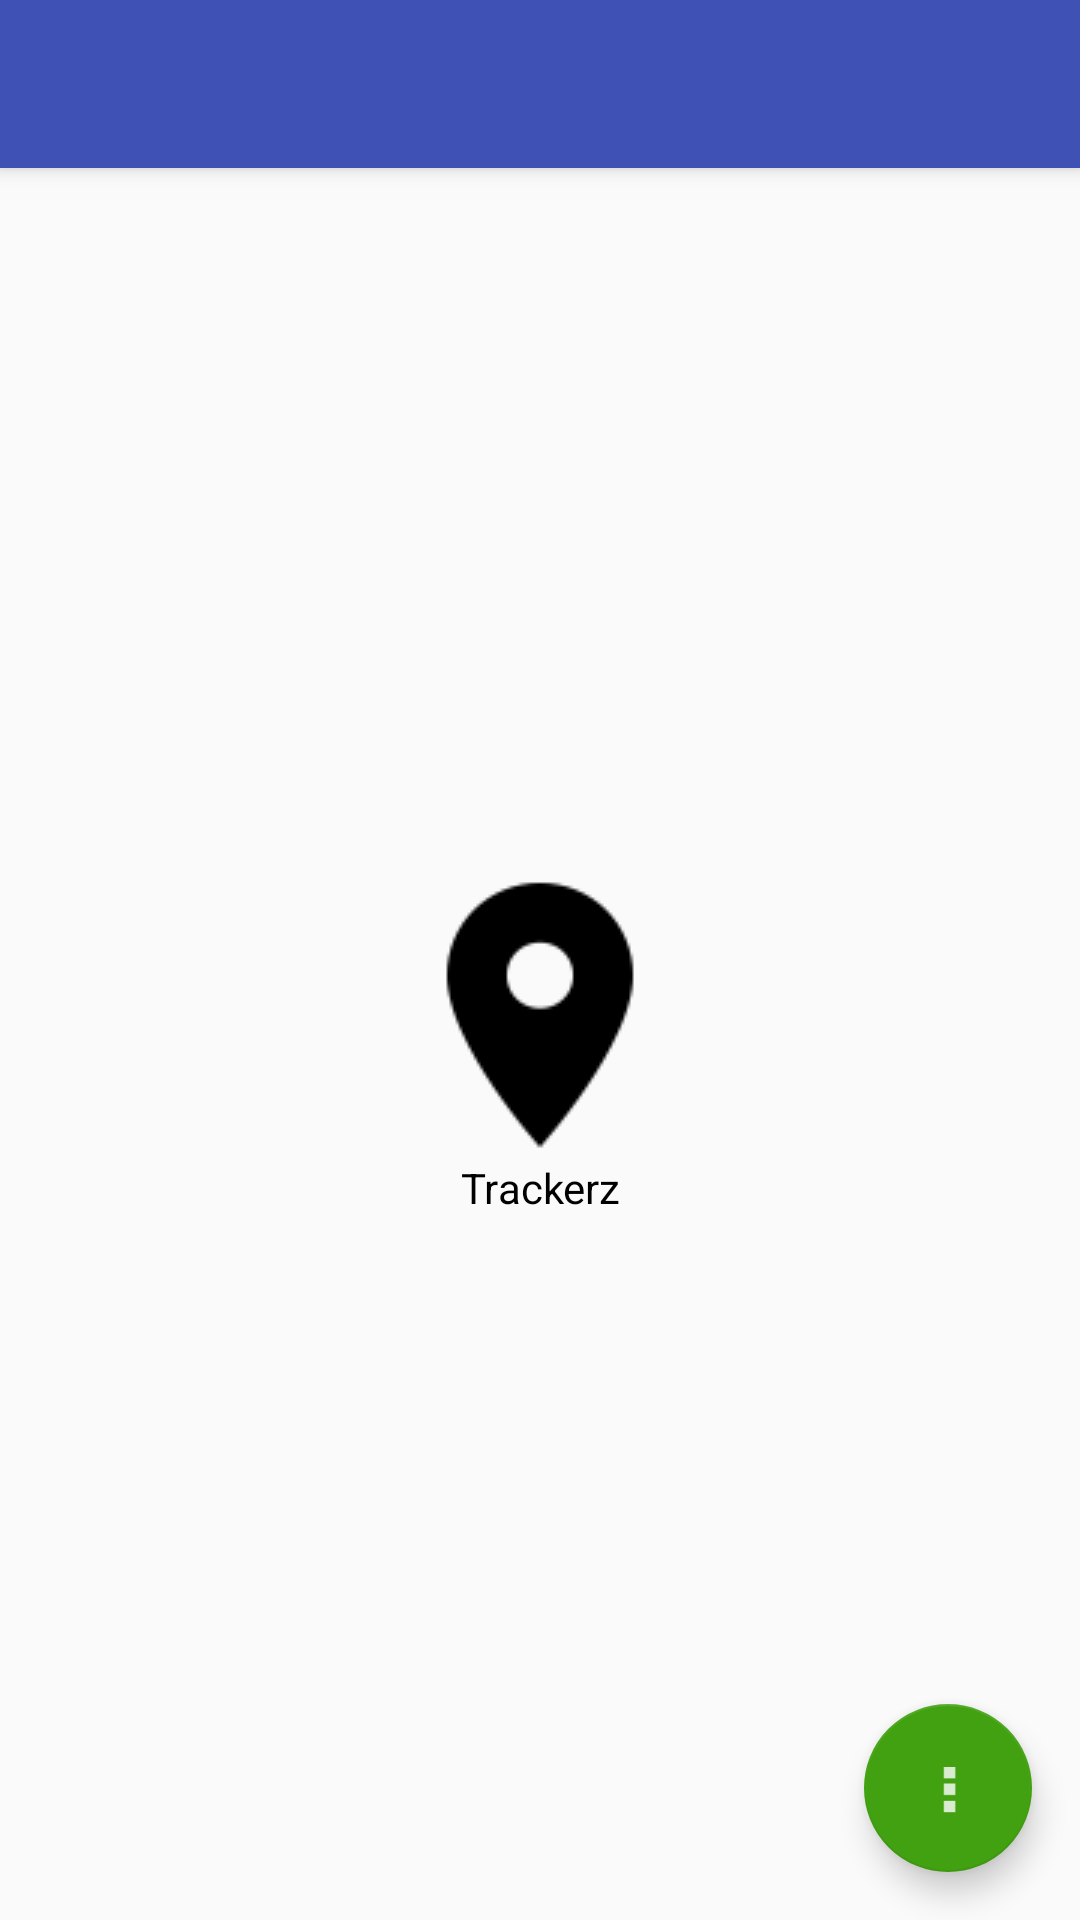

Named icons in this screenshot (1080 × 1920) and their bounding boxes, (x1, y1, x2, y2):
overflow: (864, 1704, 1032, 1872)
